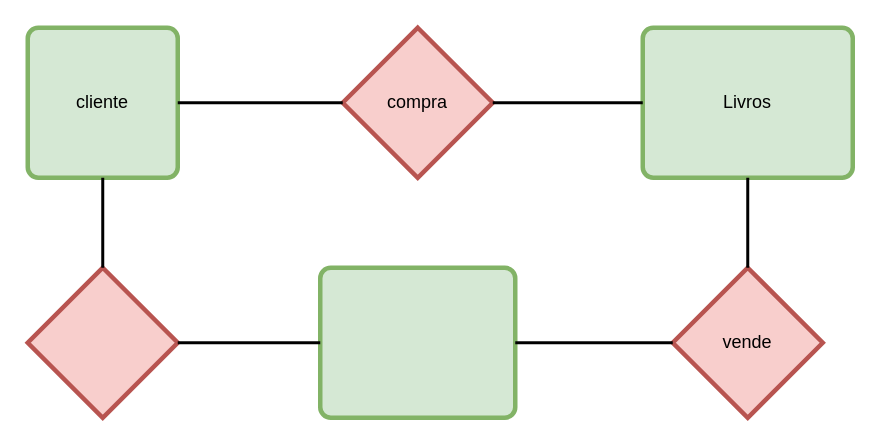
Image size: 881x446. Some labels were removed from this diagram. Here are the shapes that lost their labels. From the top down, the centre of each, then its label:
the point at 102,342: atende
the point at 417,342: vendedor
